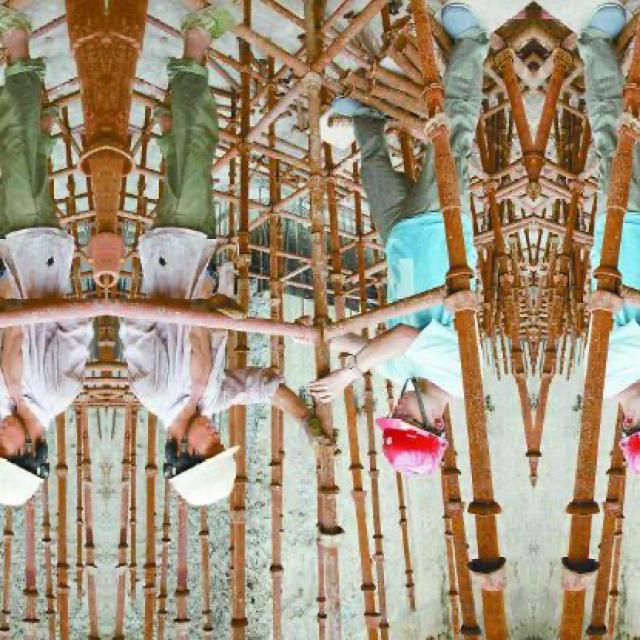con casco: (122, 368, 303, 526), (346, 393, 492, 489), (0, 398, 55, 526)
